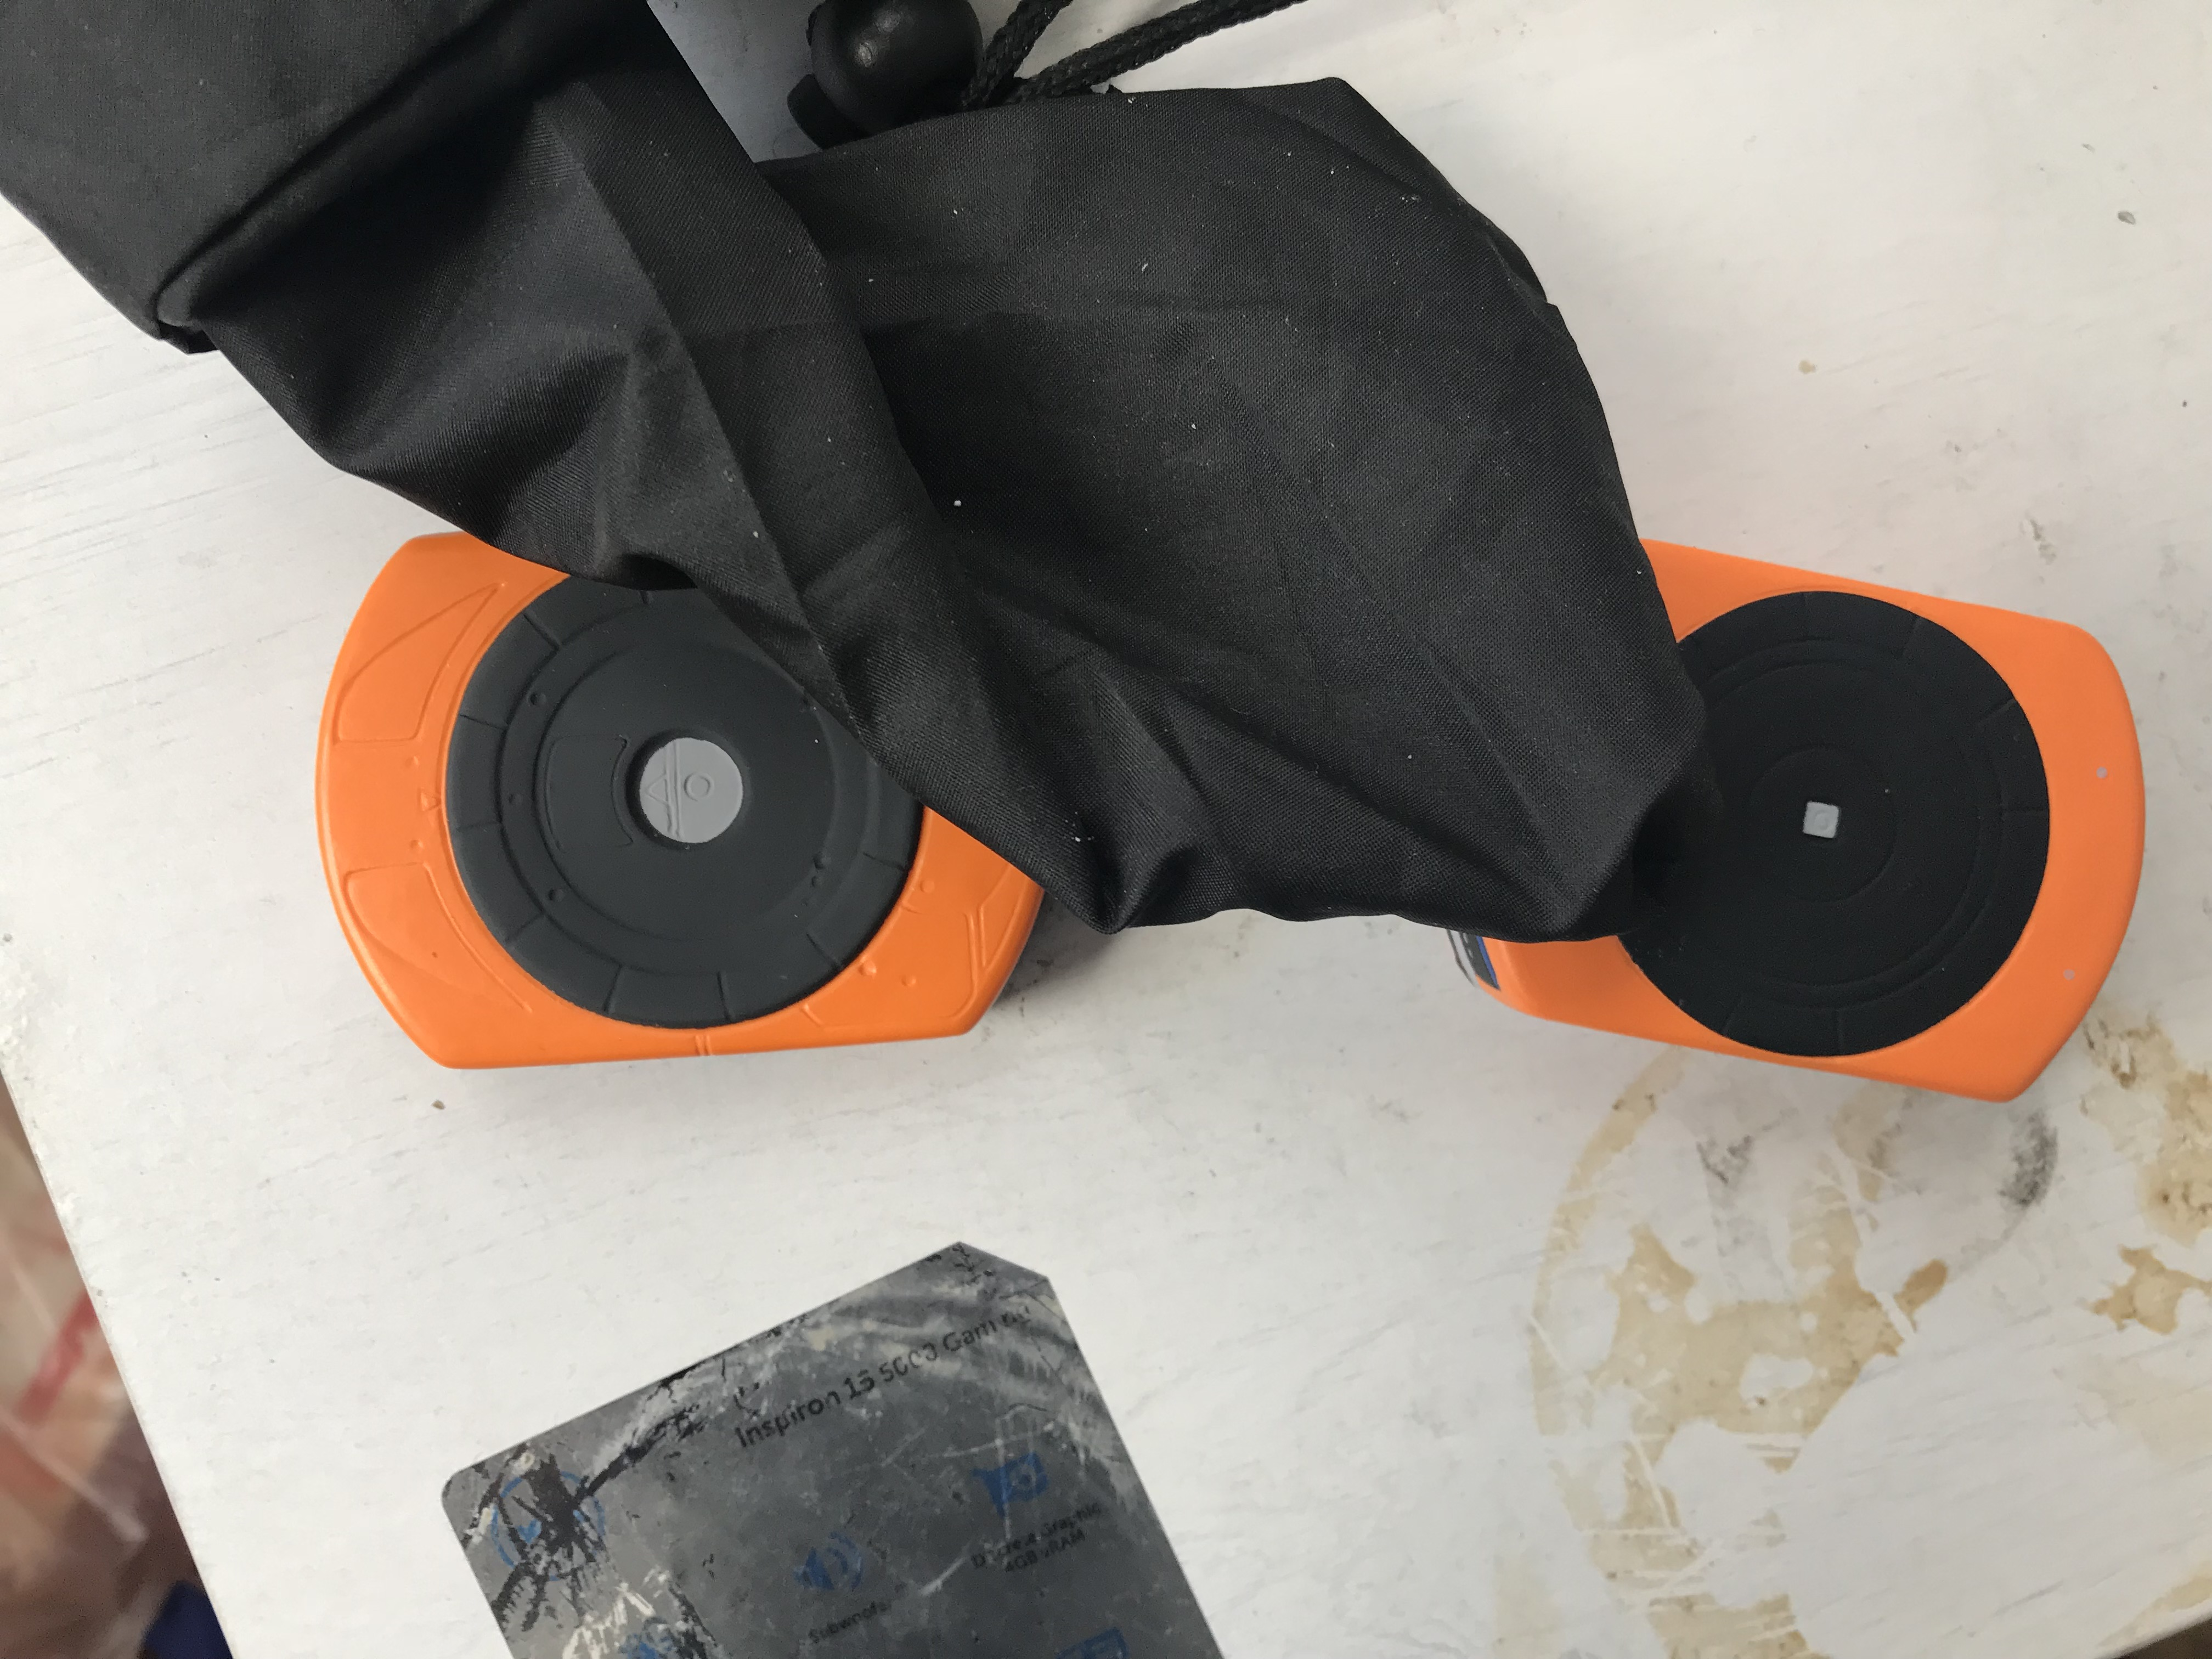amazon_bot: (1440, 502, 2210, 1148), (303, 518, 1043, 1089)
